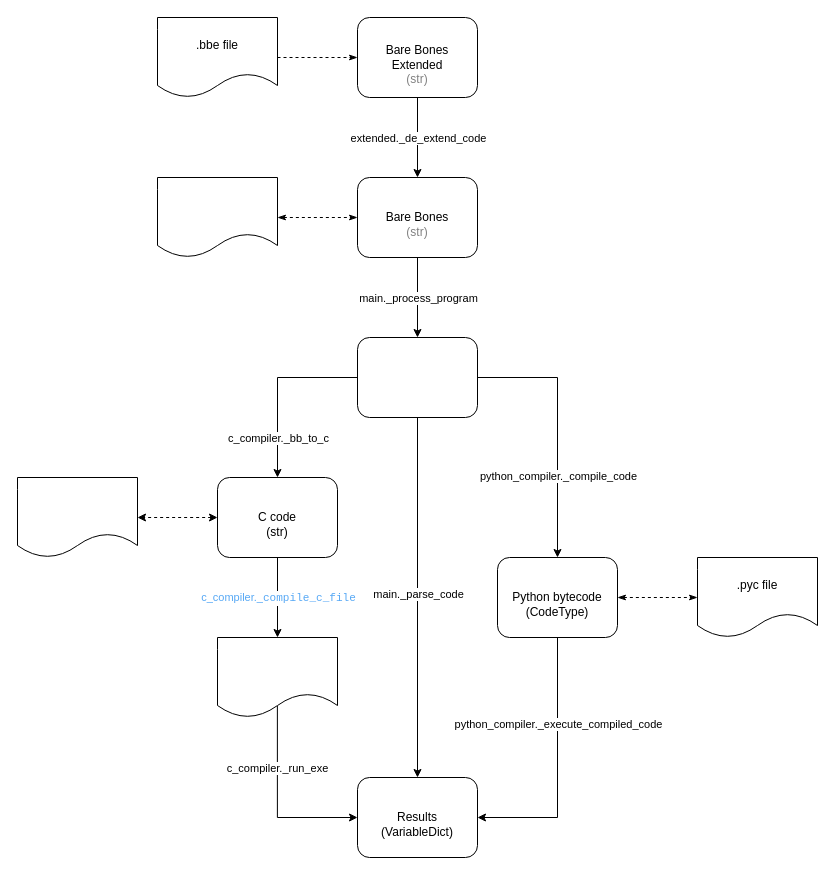
Some shapes in this 835 by 875 pixel diagram are drawn without their labels. The shapes that lost their labels are listed below. From the top down, each one's centre as x and y in pixels, then its label:
At (217,217): ".bb file".
At (417,377): "Processed Bare Bones (list[ProcessedLine])".
At (77,517): ".c file".
At (277,677): "Executable".
